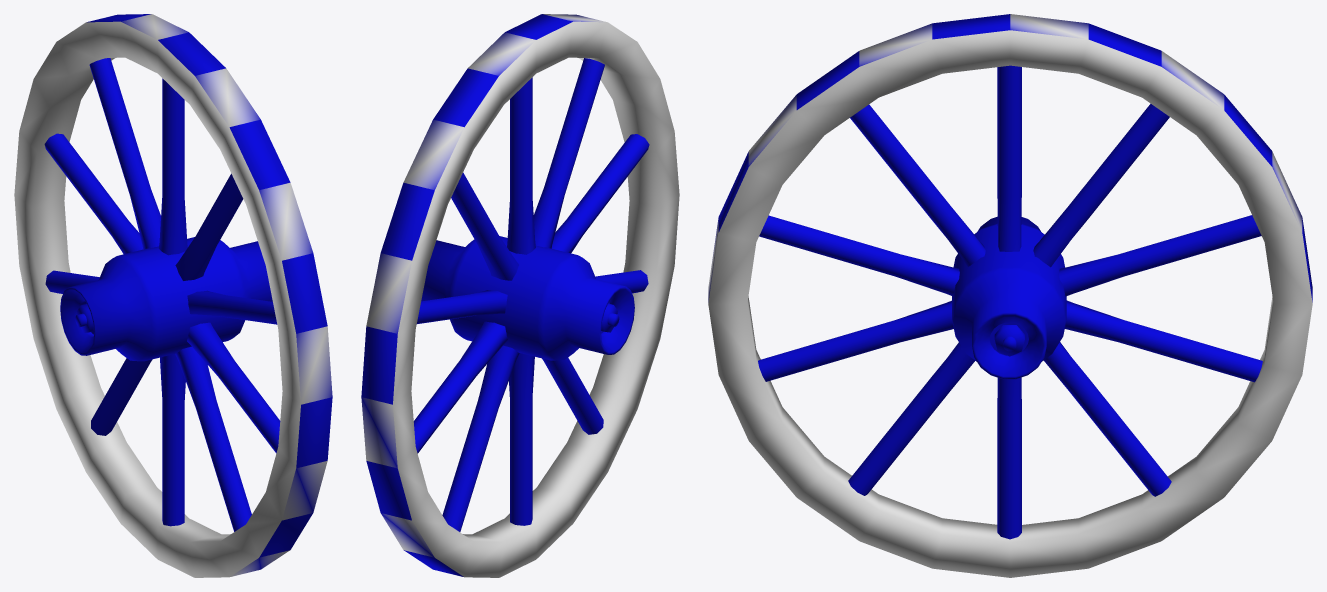
File: SM_Wheel.FBX
3 views of the same model, side by side, from view 1: azimuth 30°, elevation 25°; view 2: azimuth 150°, elevation 25°; view 3: azimuth 270°, elevation 25° (orthographic). The views are drawn at different scales.
Visible parts, largest first — view 1: SM_Wheel_LOD0; view 2: SM_Wheel_LOD0; view 3: SM_Wheel_LOD0.
Part boxes in pixels (<box>): SM_Wheel_LOD0: <box>14,14,332,577</box>; SM_Wheel_LOD0: <box>361,14,679,577</box>; SM_Wheel_LOD0: <box>708,14,1312,577</box>.
Size of what is drawn, in the model's own units: 42.11 by 110 by 110.
